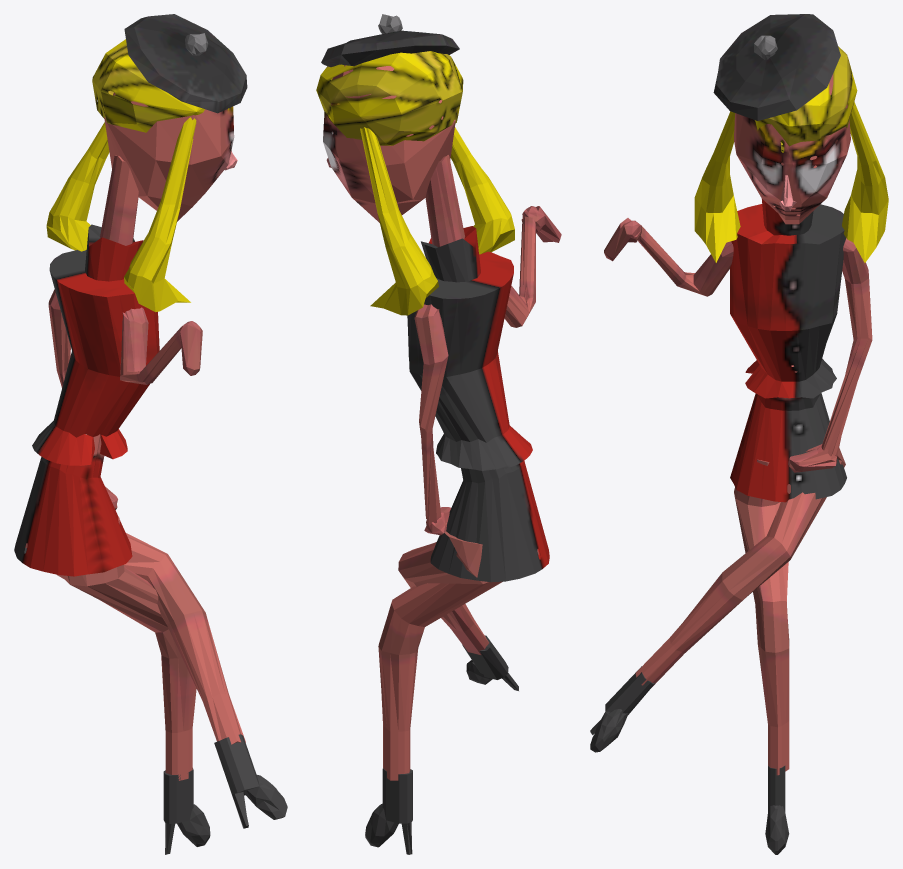
Rendered from Rogale.glb.
3 renders of one model, left to right at view 1: azimuth 30°, elevation 25°; view 2: azimuth 150°, elevation 25°; view 3: azimuth 270°, elevation 25°, orthographic. The views are drawn at different scales.
Parts seen in each view (by area): view 1: Rogale; view 2: Rogale; view 3: Rogale.
Boxes of the visible parts, x1,y1,x2,y2 form: Rogale: [14, 14, 287, 854]; Rogale: [316, 14, 561, 854]; Rogale: [590, 14, 888, 854].
Bounding box in the file's own units: 71.91 × 264 × 87.86.
Materials: 1 (1 with a texture image).
